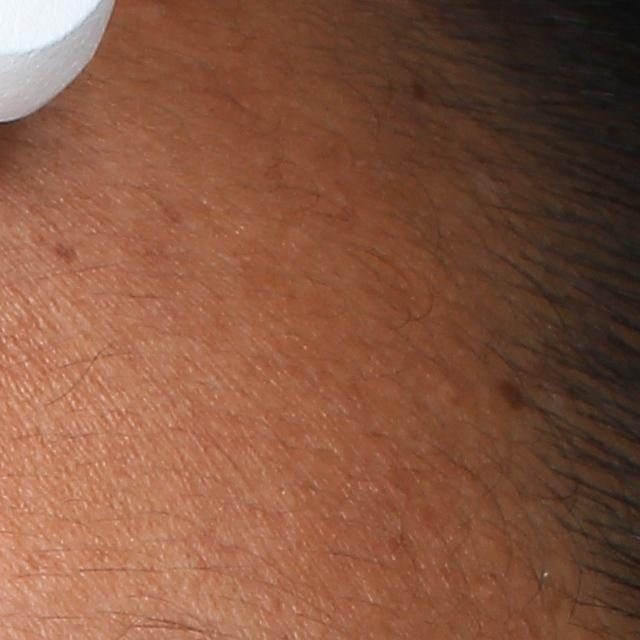nevus: (503, 380, 528, 409), (56, 238, 80, 263)
